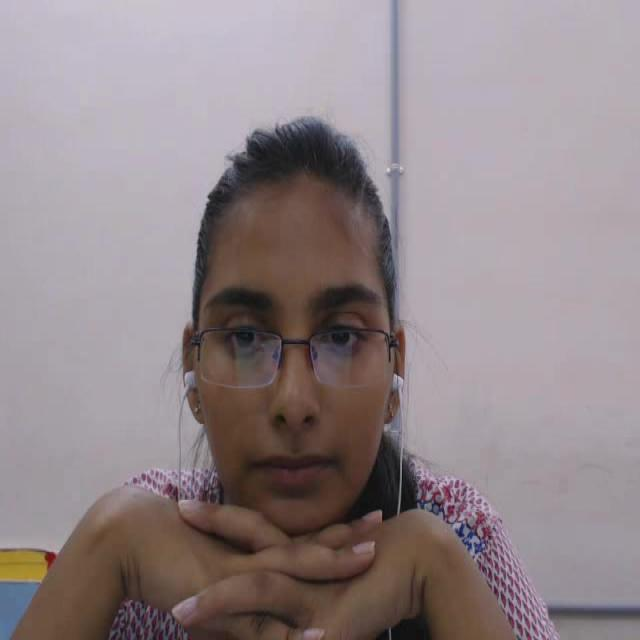Bored: (168, 107, 468, 586)
